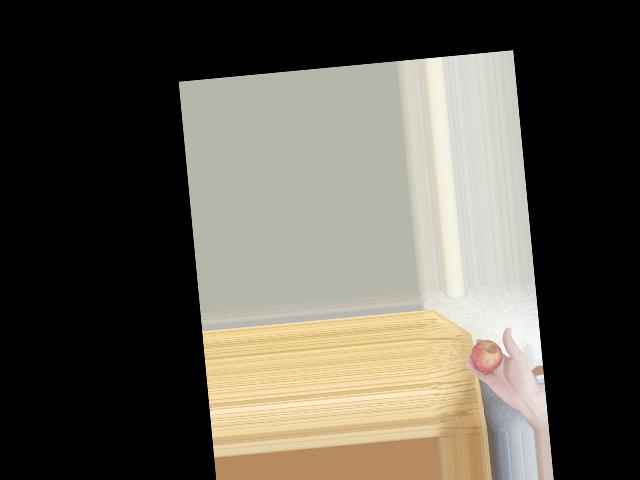apple: (468, 336, 505, 379)
